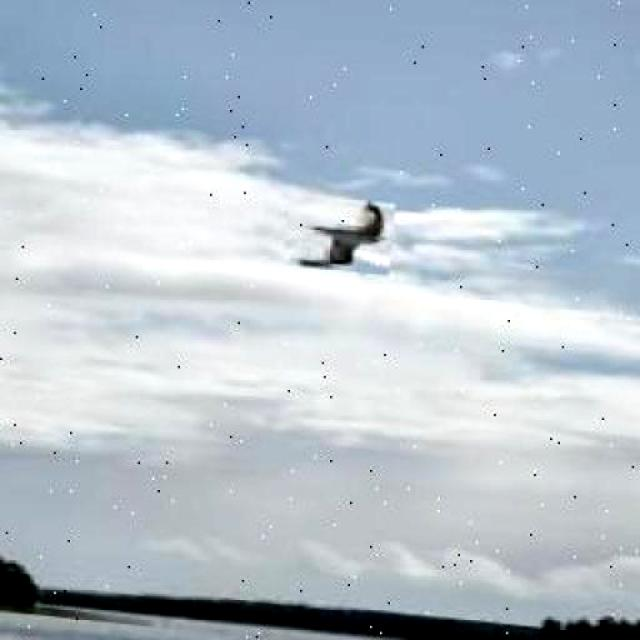airplane: (282, 191, 394, 275)
